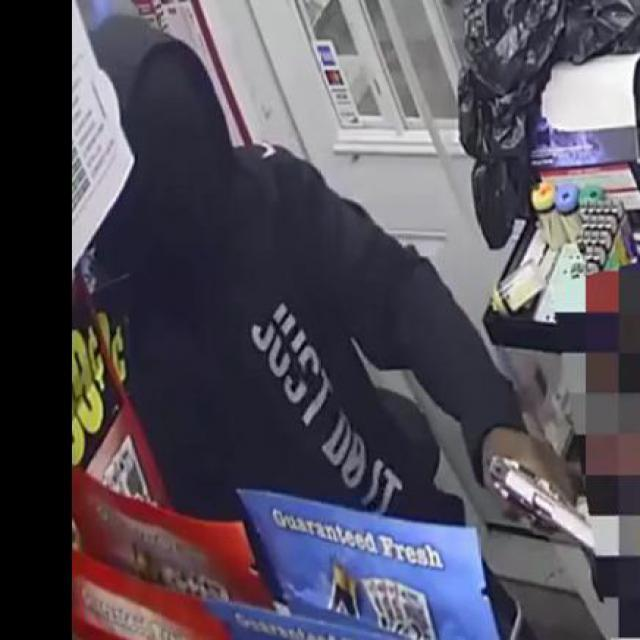Gun: (478, 435, 604, 559)
